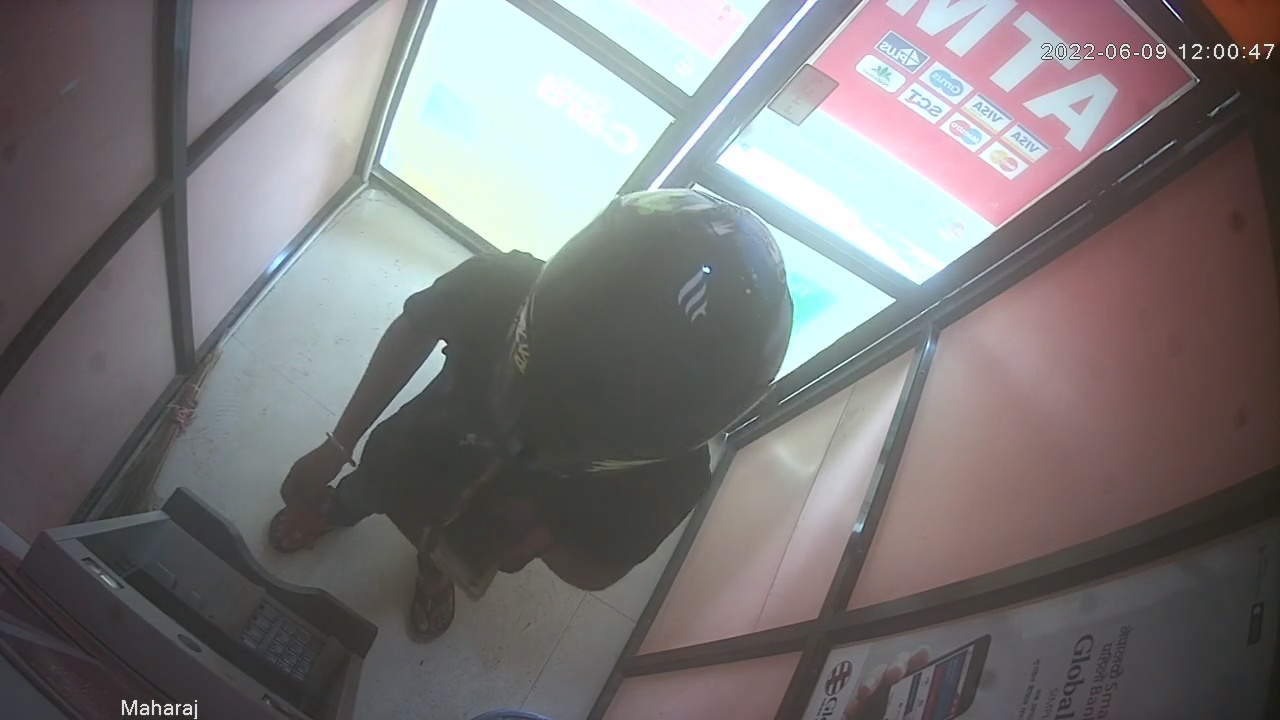helmet: (492, 187, 794, 481)
person: (266, 186, 798, 645)
